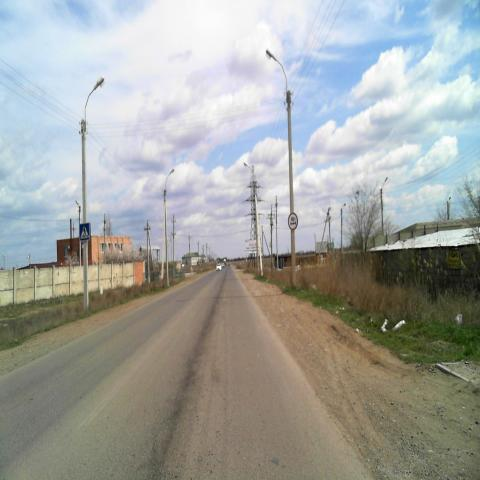3_12: (288, 212, 298, 230)
